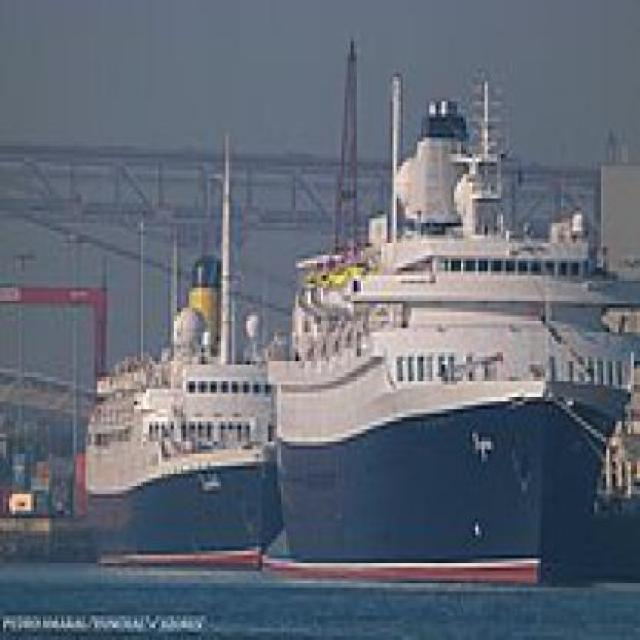cruise: (260, 70, 637, 609), (71, 321, 306, 581)
